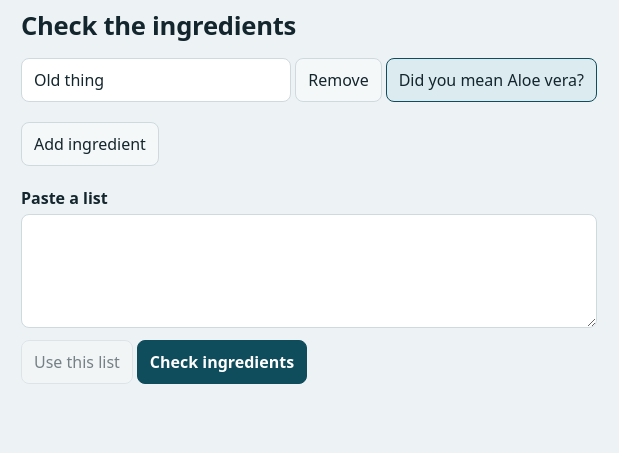
Test: review: pasting a list replaces the draft
Click the text box labelled "Paste a list" at (309, 271), box [21,214,597,328]
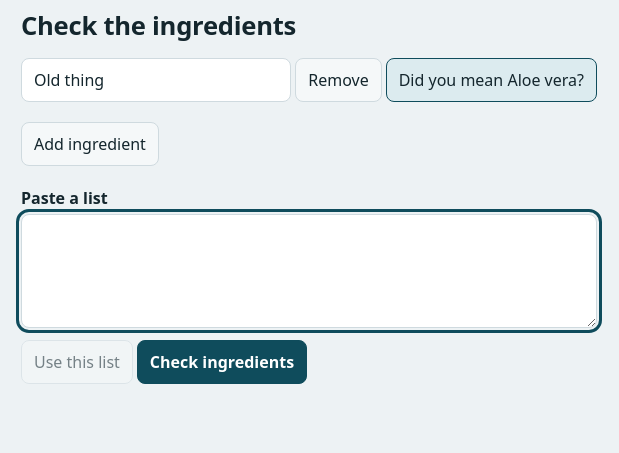
Type keys "Water, Glycerin"
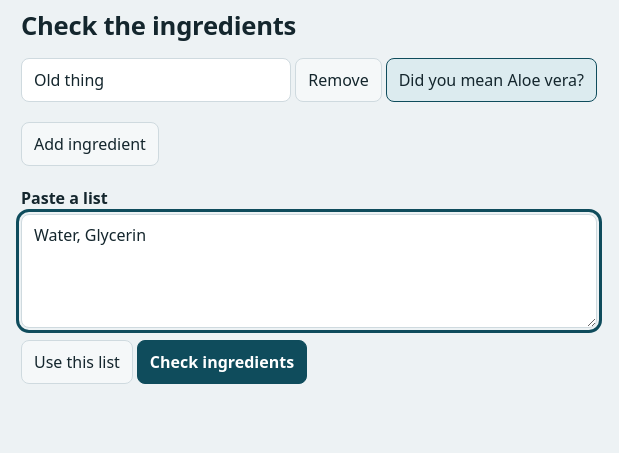
Click the button "Use this list" at (77, 362), box [21,340,133,384]
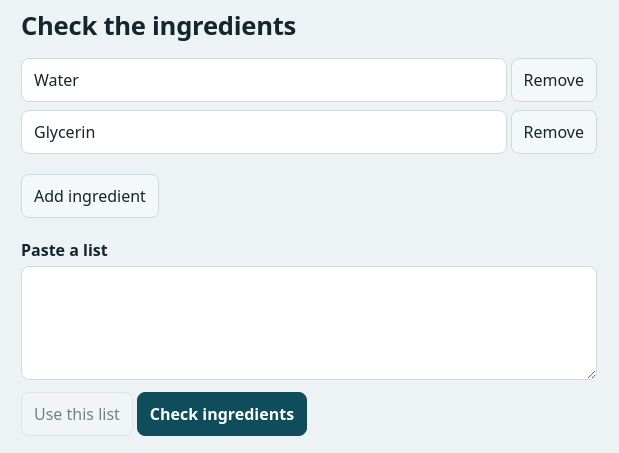
Expected: the field showing "Old thing" is not shown
Expected: the 1st field named "Ingredient 1" holds "Water", [21,58,506,102]
Expected: the 2nd field named "Ingredient 2" holds "Glycerin", [21,110,506,154]
